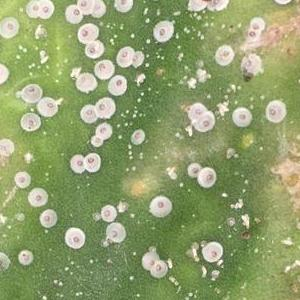Femea: (40, 97, 53, 117), (66, 231, 82, 246), (198, 115, 213, 130), (153, 23, 167, 39), (206, 243, 220, 259), (1, 19, 15, 34), (83, 155, 96, 171), (153, 198, 166, 214), (40, 210, 52, 227), (119, 46, 129, 66), (107, 225, 121, 239), (234, 109, 247, 124), (189, 103, 206, 114), (96, 62, 109, 76), (96, 99, 109, 113), (145, 253, 157, 268), (38, 1, 50, 16), (82, 105, 94, 120), (78, 28, 94, 39), (218, 47, 229, 63), (72, 156, 82, 173), (23, 84, 36, 97), (66, 6, 79, 19), (30, 190, 44, 202), (22, 115, 36, 127), (27, 1, 38, 16), (112, 76, 123, 91), (266, 104, 277, 119), (115, 0, 129, 11), (202, 170, 212, 185), (76, 0, 88, 12), (247, 18, 259, 30), (16, 173, 29, 184), (190, 164, 201, 177), (85, 43, 96, 55), (153, 262, 163, 275), (132, 52, 141, 66), (102, 208, 114, 218), (131, 132, 144, 141), (97, 124, 107, 135), (246, 30, 258, 37)
Linfa: (120, 102, 138, 124), (224, 81, 243, 95), (180, 23, 193, 35), (106, 22, 125, 30), (134, 89, 145, 102), (124, 143, 133, 158), (196, 28, 206, 41), (16, 44, 28, 53), (107, 36, 116, 47), (26, 62, 37, 70), (177, 50, 184, 61), (141, 6, 147, 17), (13, 53, 23, 59), (144, 36, 150, 45), (129, 31, 135, 39), (220, 190, 226, 198), (116, 133, 123, 139), (178, 180, 183, 188), (144, 16, 150, 22), (143, 62, 150, 66)
Macho: (190, 246, 198, 258)
